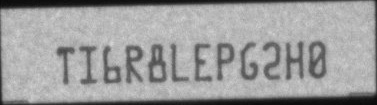0: (307, 39, 327, 78)
2: (262, 41, 281, 80)
6: (102, 43, 122, 83)
8: (147, 43, 167, 83)
E: (193, 40, 212, 82)
G: (240, 39, 259, 80)
H: (285, 40, 304, 80)
I: (79, 44, 97, 84)
L: (170, 43, 189, 82)
P: (217, 41, 235, 81)
R: (125, 45, 144, 84)
T: (57, 45, 75, 85)
